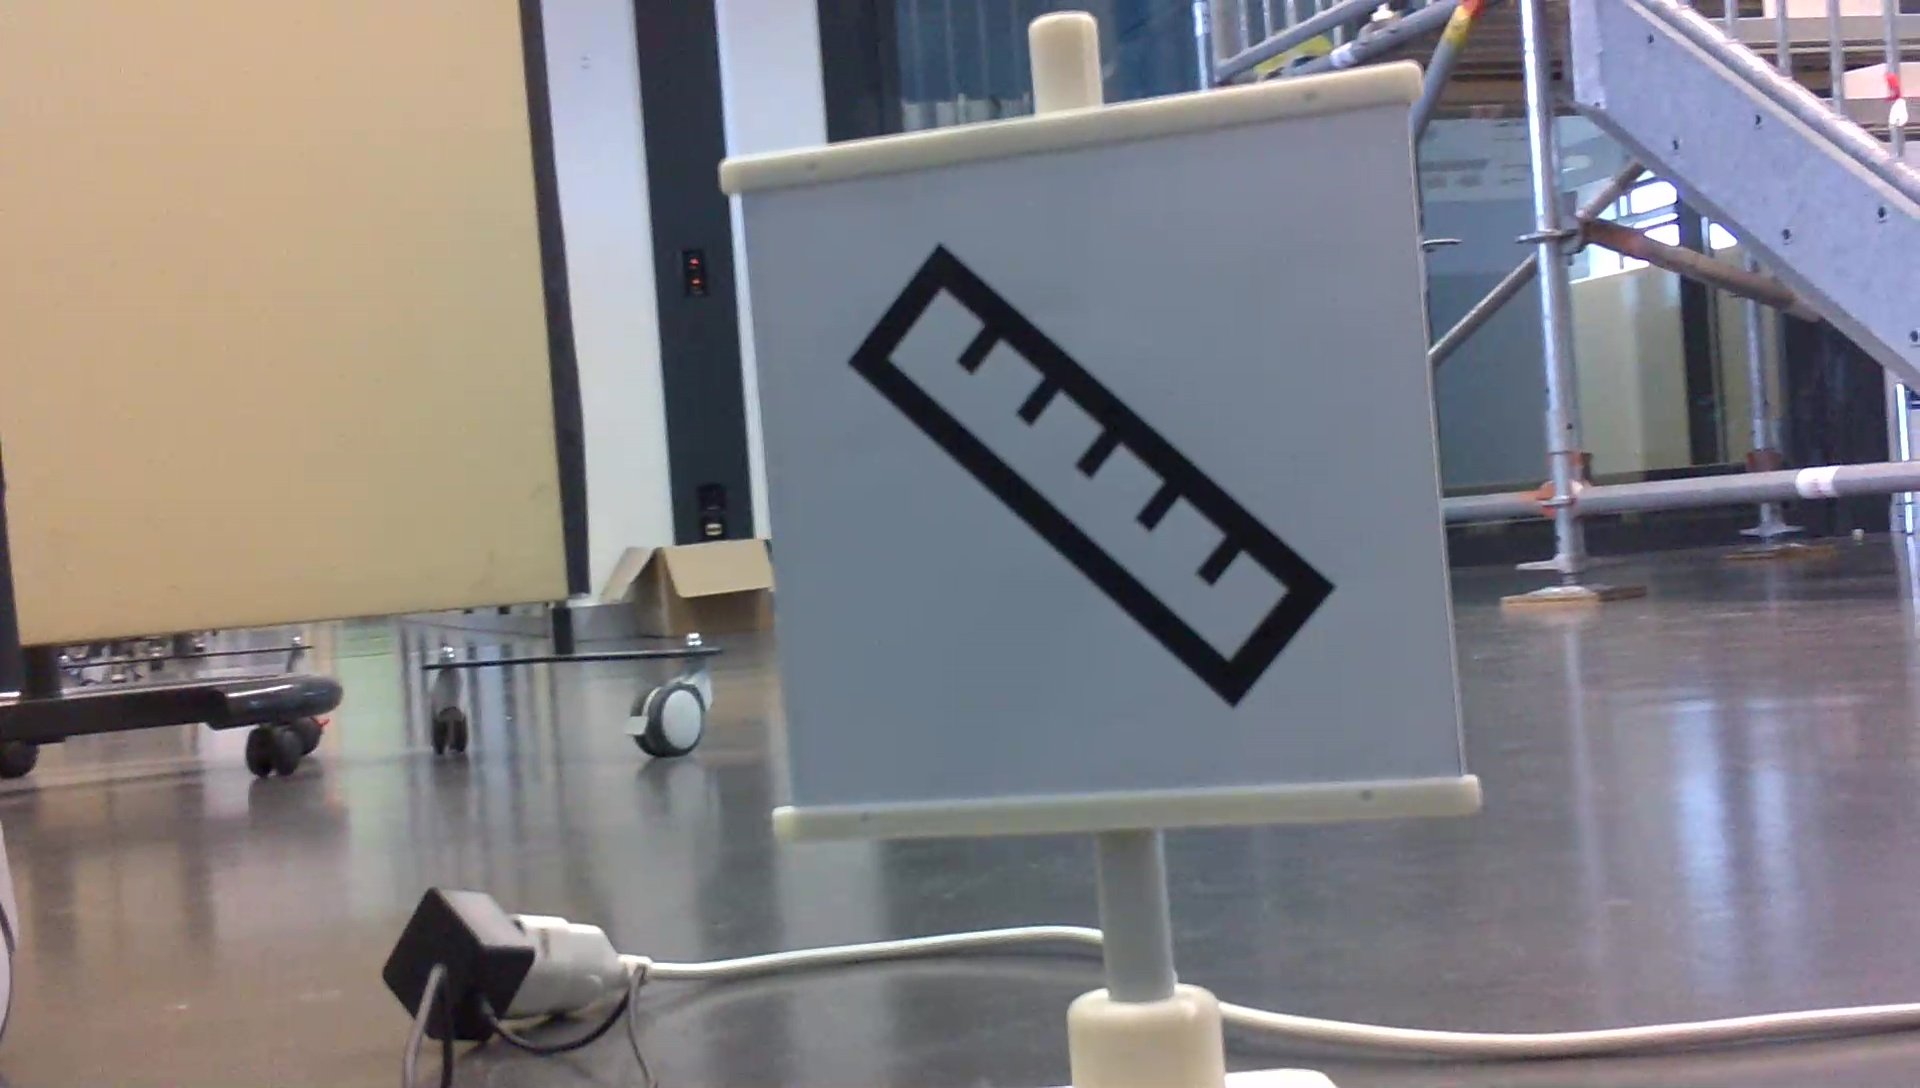ruler: (848, 231, 1348, 719)
